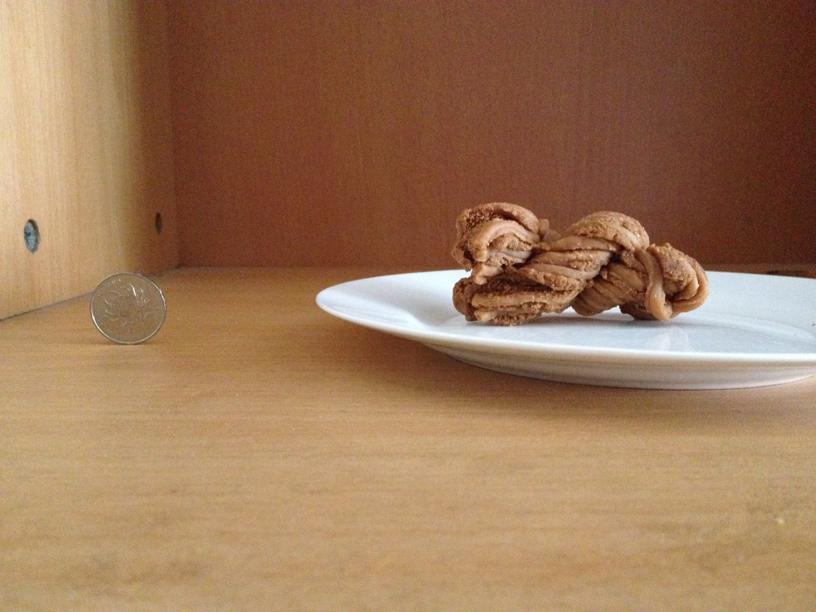coin: (87, 272, 165, 344)
fired_dough_twist: (447, 199, 708, 323)
